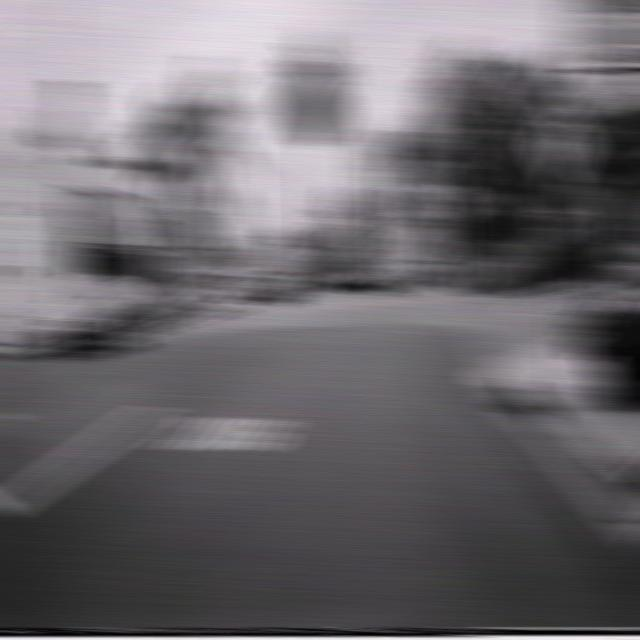pedestrianCrossing: (530, 100, 592, 186), (440, 182, 471, 207)
